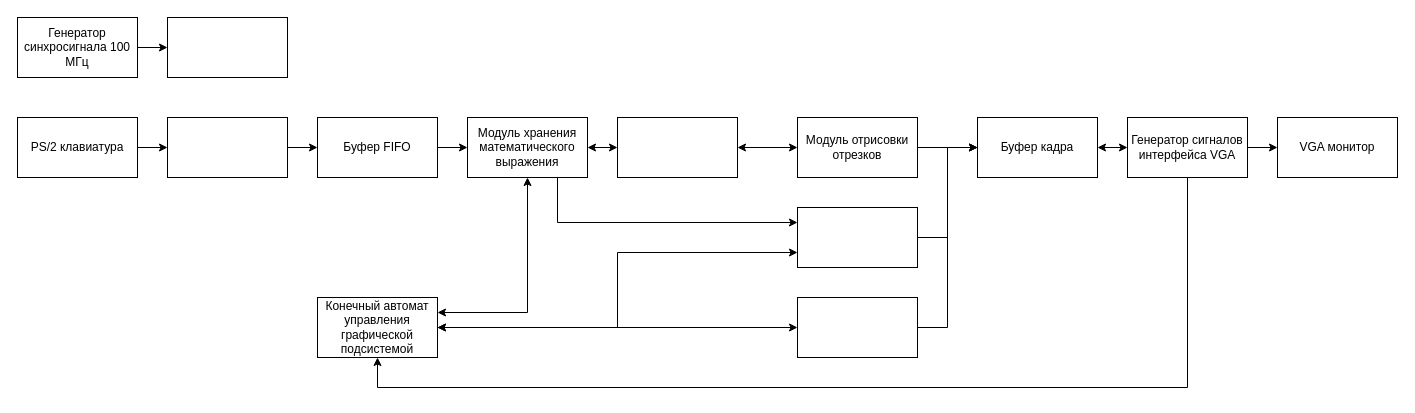
Some shapes in this 1415 by 413 pixel diagram are drawn without their labels. The centre of each missing label's shape, as x and y in pixels:
"Блок MMCM для генерации синхросигнала 25,175 МГц" belongs at (227,47).
"Дешифратор клавиш PS/2" belongs at (227,147).
"Логическая подсистема" belongs at (677,147).
"Модуль заполнения буфера кадра чёрным цветом" belongs at (857,327).
"Модуль отрисовки символов" belongs at (857,237).
